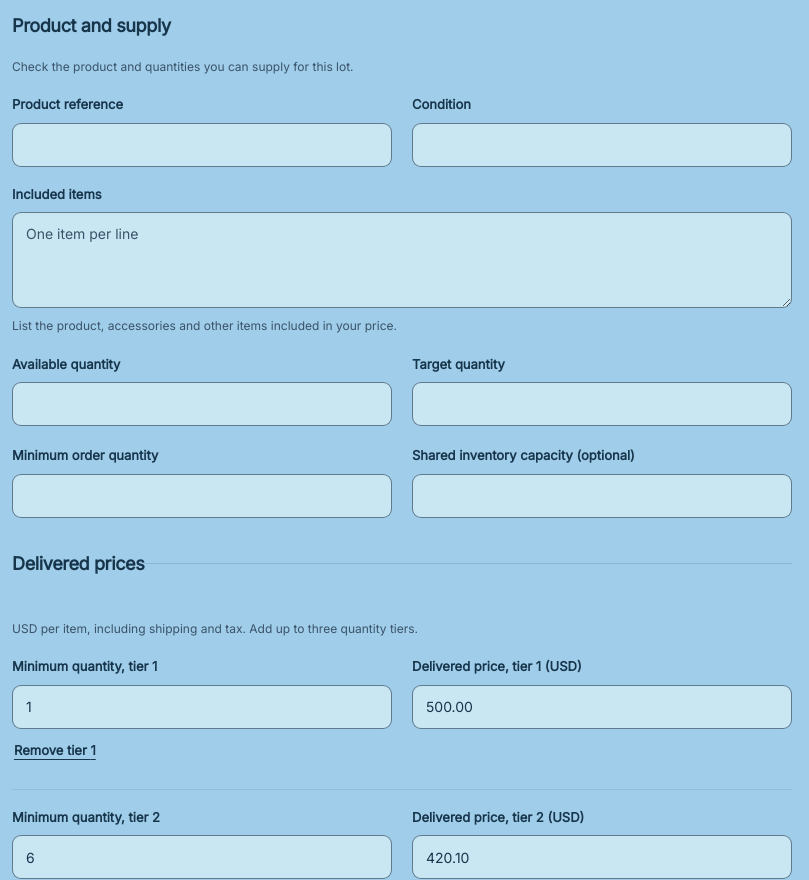
keeps the remaining tier's price when an earlier tier is removed
Click the button "Remove tier 1".
click(55, 751)  # box [12, 729, 98, 773]
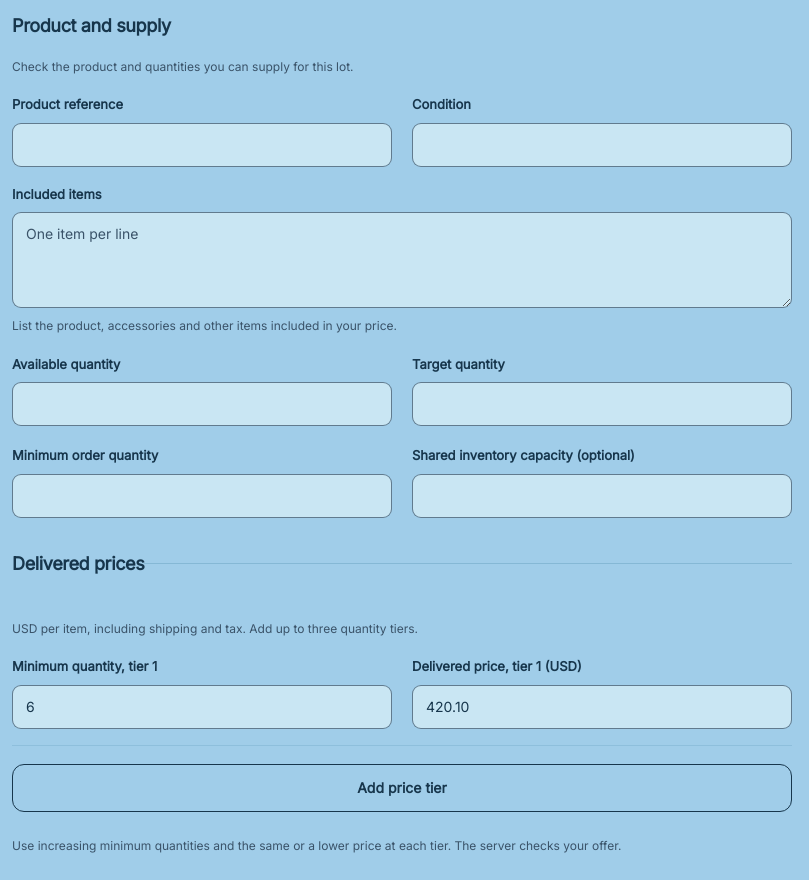
Expected: the field labelled "Delivered price, tier 1 (USD)" holds "420.10", [412, 685, 792, 729]
Expected: the number field labelled "Minimum quantity, tier 1" holds "6", [12, 685, 392, 729]
